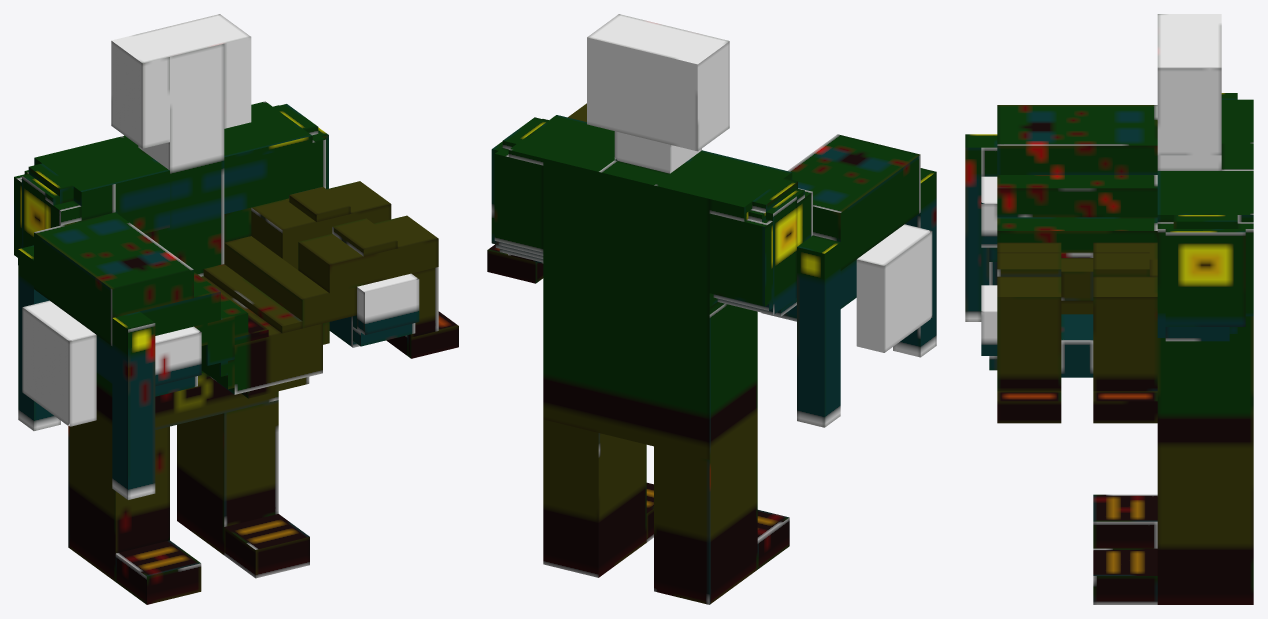
File: main_char.dae
3 views of the same model, side by side, from view 1: azimuth 30°, elevation 25°; view 2: azimuth 150°, elevation 25°; view 3: azimuth 270°, elevation 25° (orthographic). The views are drawn at different scales.
Visible parts, largest first — view 1: main_char-local; view 2: main_char-local; view 3: main_char-local.
Boxes of the visible parts, x1,y1,x2,y2 form: main_char-local: (14, 14, 458, 604); main_char-local: (487, 14, 936, 604); main_char-local: (965, 14, 1253, 604).
Size of the model in its own units: 55 by 72 by 36.
1 material, 1 textured.
